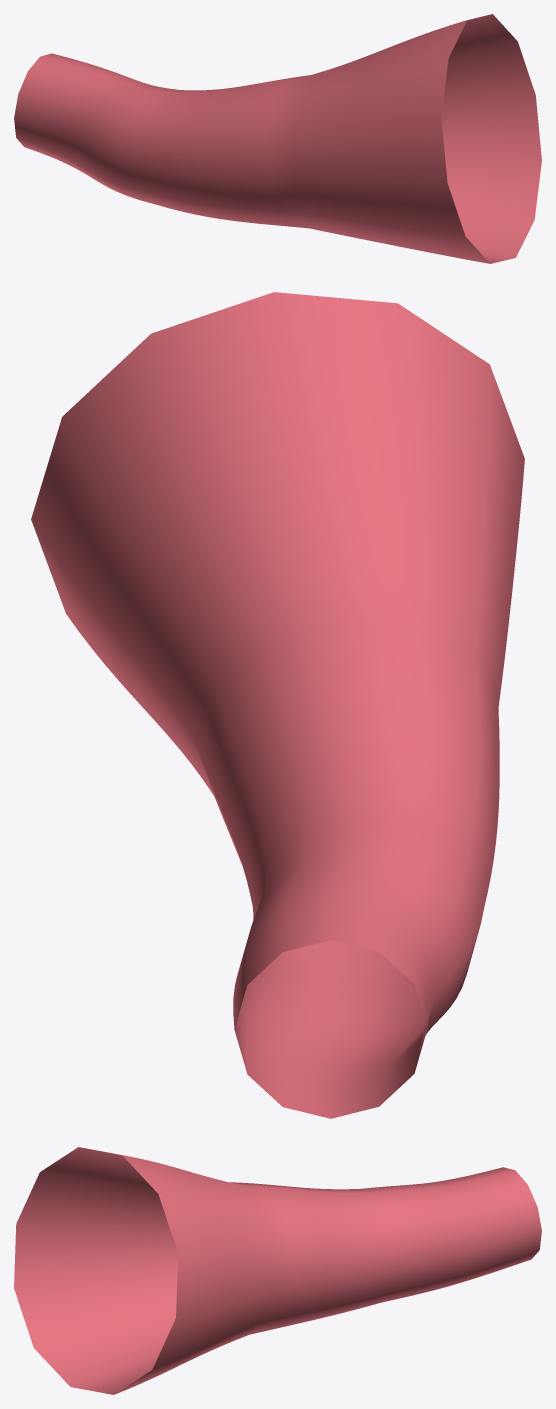
The picture shows the model from 3 angles, top to bottom: view 1: azimuth 30°, elevation 25°; view 2: azimuth 150°, elevation 25°; view 3: azimuth 270°, elevation 25°; orthographic projection. The views are drawn at different scales.
Parts seen in each view (by area): view 1: ZA_3cc94fe1f37d323e; view 2: ZA_3cc94fe1f37d323e; view 3: ZA_3cc94fe1f37d323e.
Boxes of the visible parts, box(x1,y1,x2,y2) form: ZA_3cc94fe1f37d323e: box(14, 14, 541, 263); ZA_3cc94fe1f37d323e: box(31, 292, 524, 1118); ZA_3cc94fe1f37d323e: box(14, 1147, 541, 1394).
Bounding box in the file's own units: 0.0213 × 0.013 × 0.0274.
